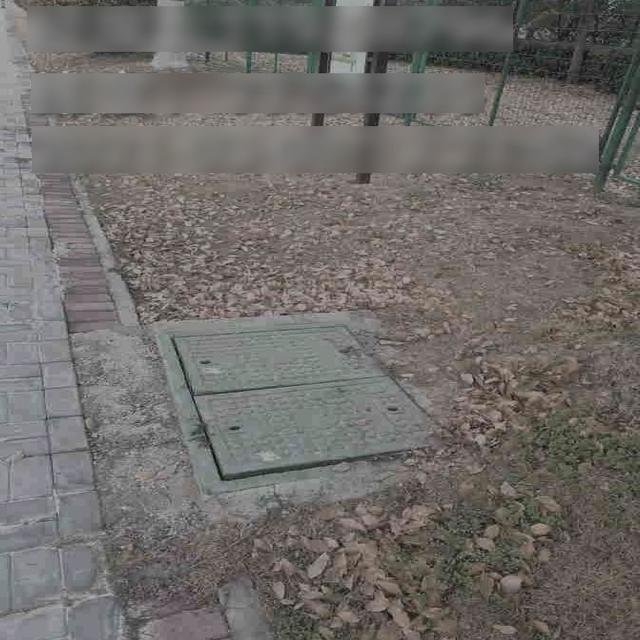good: (153, 321, 467, 482)
